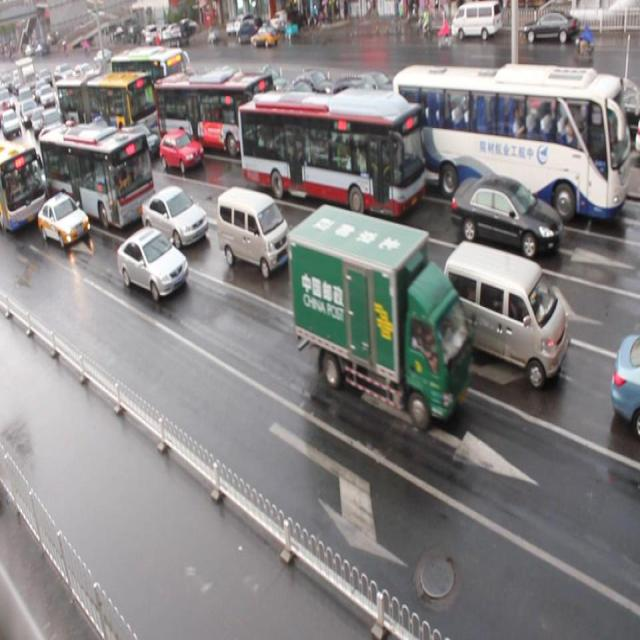bus: (288, 203, 470, 428)
car: (300, 228, 404, 321), (450, 174, 562, 260), (117, 225, 188, 302), (141, 185, 208, 250), (36, 187, 88, 243), (158, 128, 203, 174), (116, 123, 160, 164)
truck: (440, 240, 568, 386), (216, 186, 292, 276)
van: (390, 65, 629, 221), (237, 89, 424, 216), (38, 121, 156, 232), (154, 70, 274, 160), (58, 71, 158, 132), (1, 134, 46, 226)
